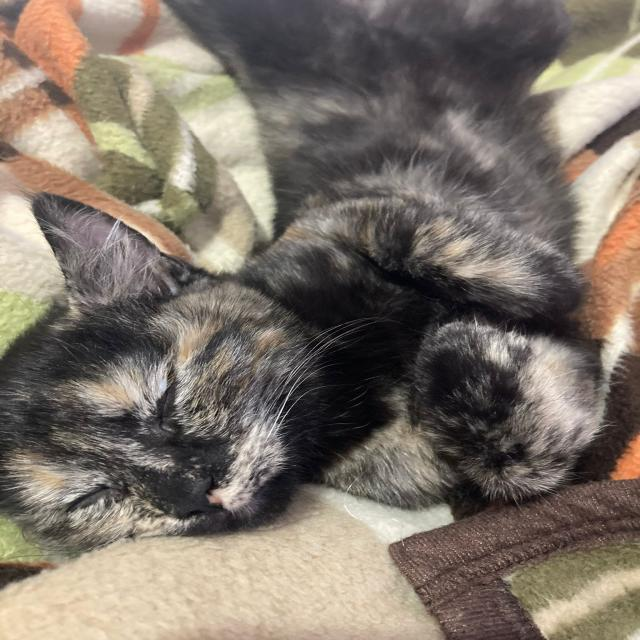authorized: (1, 0, 611, 559)
